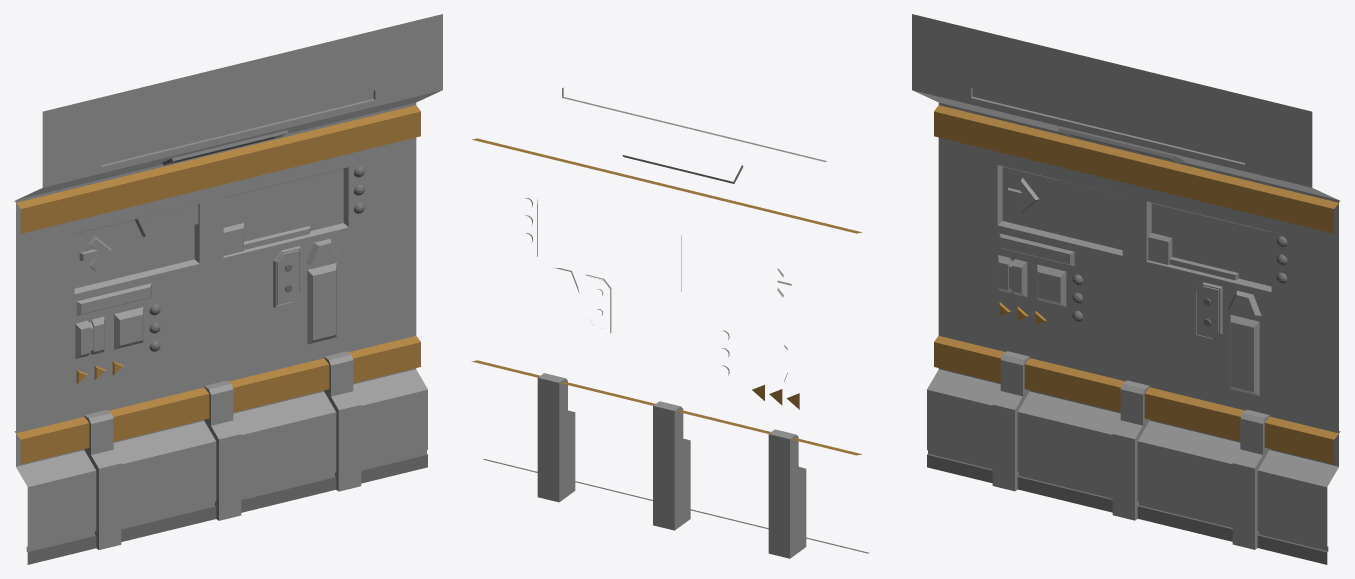
The model's file is Wall_4.glb.
3 renders of one model, left to right at view 1: azimuth 30°, elevation 25°; view 2: azimuth 150°, elevation 25°; view 3: azimuth 330°, elevation 25°, orthographic. The views are drawn at different scales.
Visible parts, largest first — view 1: Wall_4_Plane.112; view 2: Wall_4_Plane.112; view 3: Wall_4_Plane.112.
Part boxes in pixels (<box>): Wall_4_Plane.112: <box>14,14,442,564</box>; Wall_4_Plane.112: <box>471,87,869,558</box>; Wall_4_Plane.112: <box>912,14,1340,564</box>.
Size of the model in its own units: 4 by 4.43 by 0.5726.
